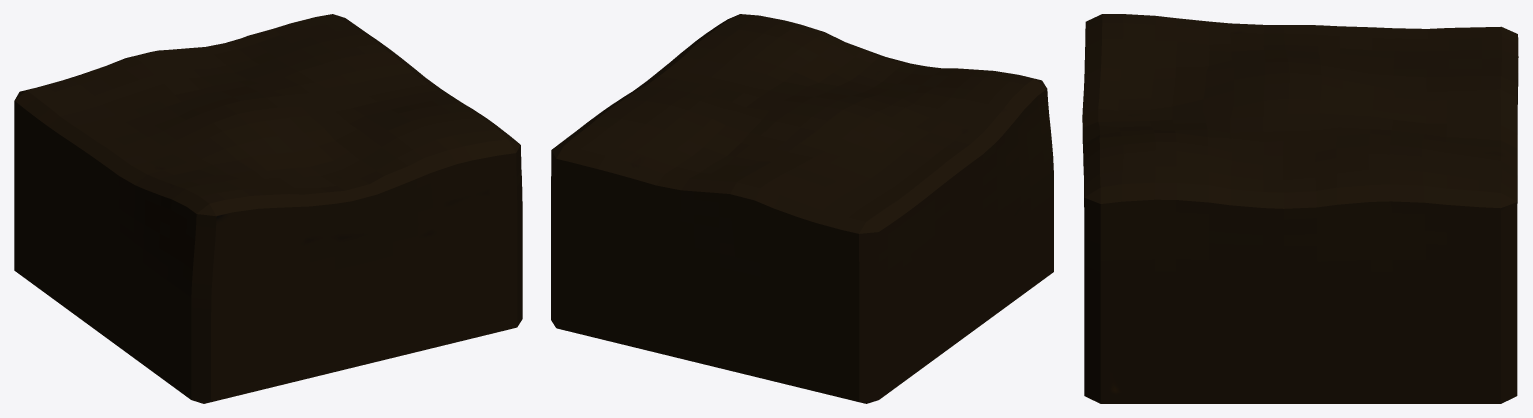
Rendered from brownie.fbx.
The picture shows the model from 3 angles, left to right: view 1: azimuth 30°, elevation 25°; view 2: azimuth 150°, elevation 25°; view 3: azimuth 270°, elevation 25°; orthographic projection. The views are drawn at different scales.
Parts seen in each view (by area): view 1: Cube; view 2: Cube; view 3: Cube.
Part boxes in pixels (box(x1,y1,x2,y2)): Cube: box(14, 14, 522, 403); Cube: box(551, 14, 1053, 403); Cube: box(1082, 14, 1518, 403).
Bounding box in the file's own units: 200 × 116 × 201.
1 material, 1 textured.
